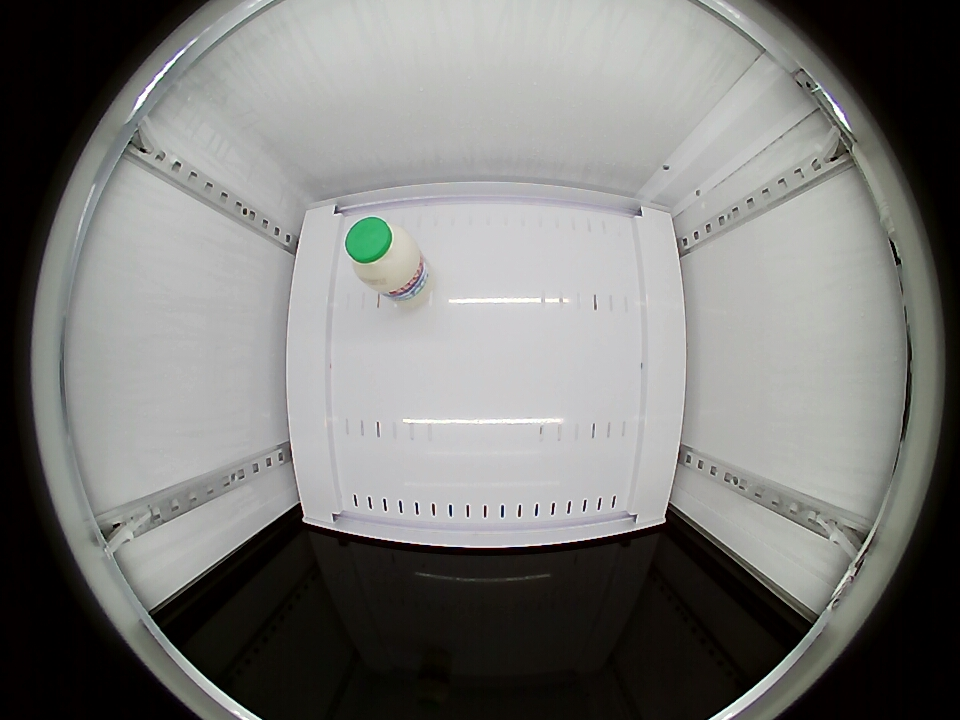liziyuan: (345, 216, 423, 294)
